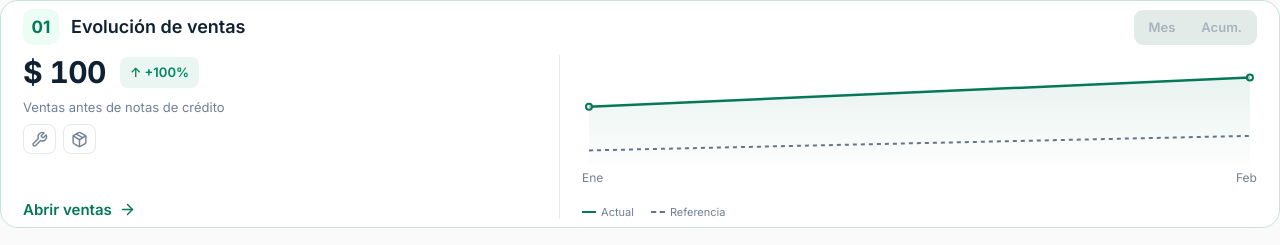
Test: Evolución de ventas scope controls › toggles a permitted category and restores the authorized total
Expected: the text "$ 100" is shown, [23, 55, 106, 90]
Click the button named "Filtrar ventas de servicios". click: {"x": 40, "y": 139}
box: [23, 124, 56, 154]
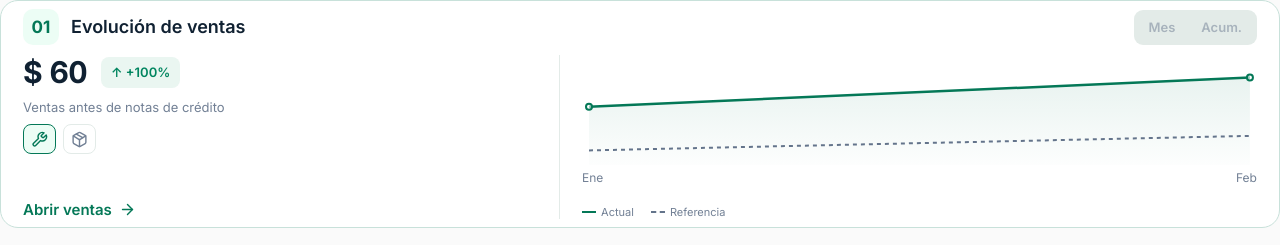
Now the text "$ 60" is shown, box [23, 55, 87, 90]
Click the button named "Filtrar ventas de repuestos". click: {"x": 80, "y": 139}
box: [63, 124, 96, 154]
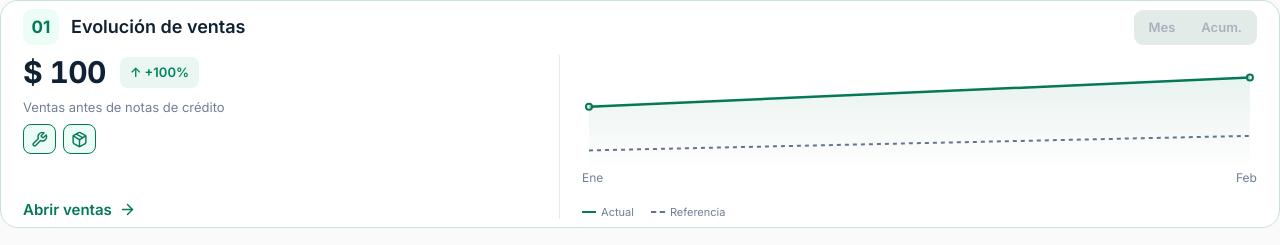
Now the text "$ 100" is shown, box [23, 55, 106, 90]
Click the button named "Filtrar ventas de repuestos". click: {"x": 80, "y": 139}
box: [63, 124, 96, 154]
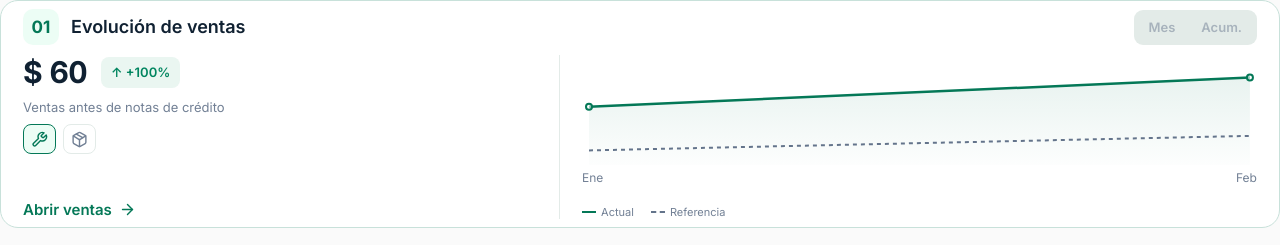
Now the text "$ 60" is shown, box [23, 55, 87, 90]
Click the button named "Filtrar ventas de servicios". click: {"x": 40, "y": 139}
box: [23, 124, 56, 154]
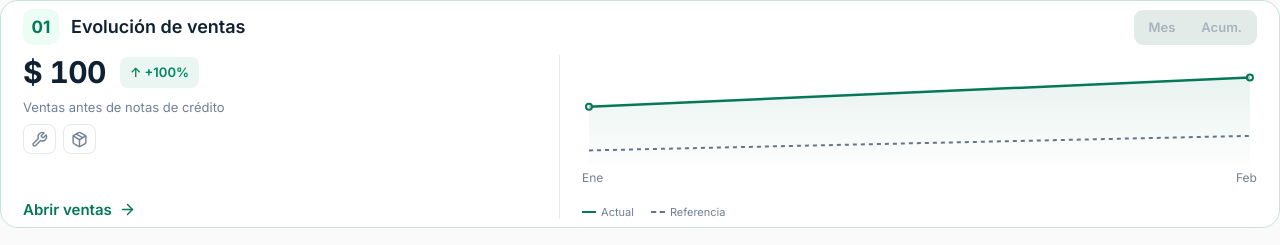
Now the text "$ 100" is shown, box [23, 55, 106, 90]
